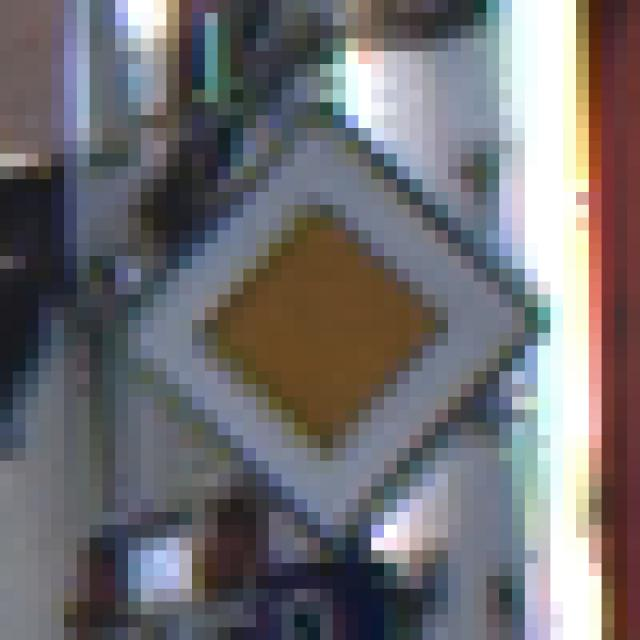Main Road: (65, 65, 577, 577)
